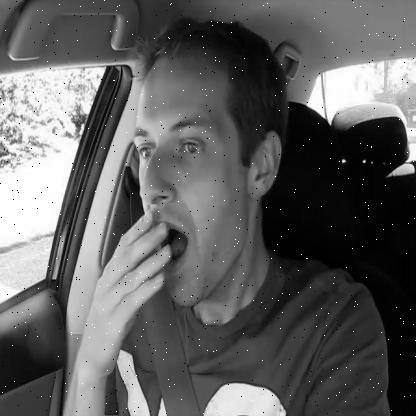seatbelt: (109, 33, 296, 416)
